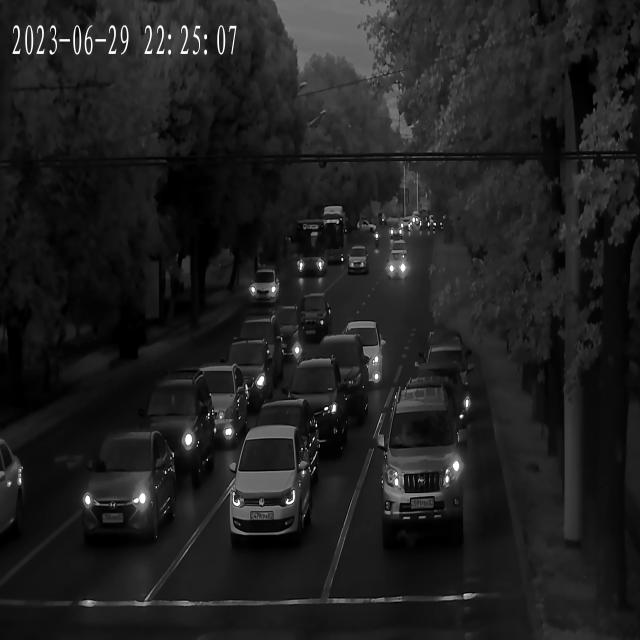Bus: (296, 215, 328, 275), (322, 204, 349, 263)
Car: (376, 392, 465, 530), (74, 433, 176, 542), (226, 426, 317, 544), (135, 378, 215, 486), (270, 356, 345, 446), (163, 364, 249, 441), (246, 402, 322, 467), (396, 371, 469, 433), (302, 335, 370, 400), (217, 338, 280, 406), (333, 322, 384, 389), (416, 346, 472, 396), (0, 431, 22, 549), (233, 321, 287, 369), (263, 308, 308, 357), (295, 295, 334, 339), (251, 272, 284, 306), (296, 253, 326, 279), (346, 246, 369, 276), (384, 258, 405, 280)
